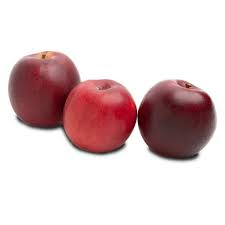apple: (63, 80, 137, 155)
